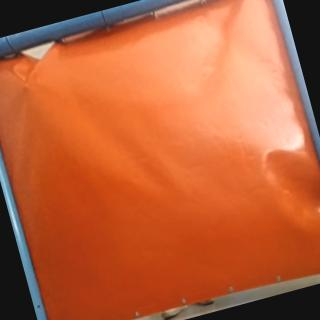Hit-hRxx: (16, 76, 38, 96)
